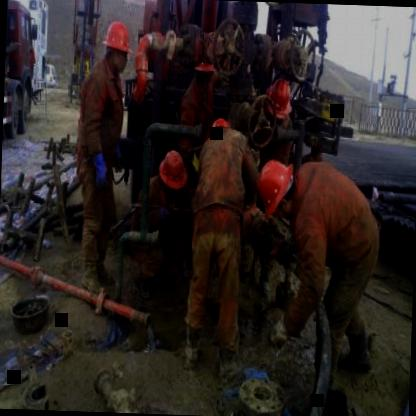helmet: (251, 154, 298, 224), (101, 18, 132, 78), (155, 147, 189, 198), (268, 71, 294, 129), (204, 112, 233, 148)
